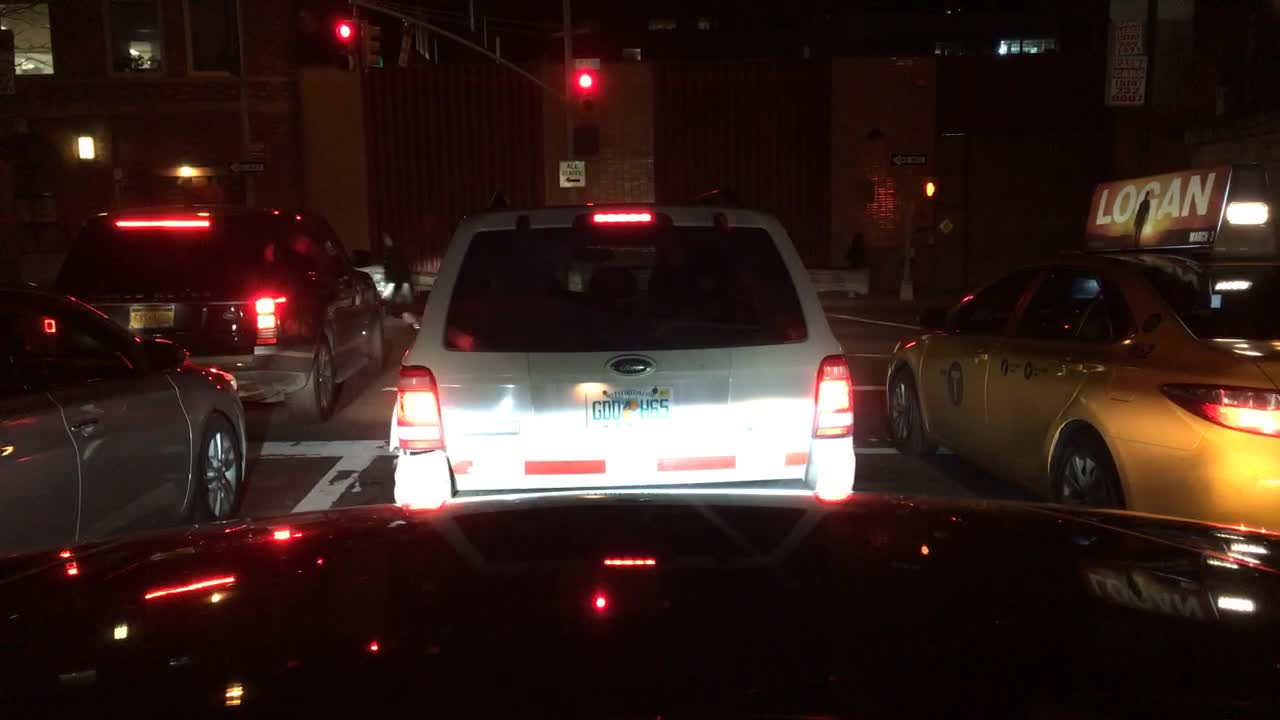car: (882, 162, 1279, 535), (388, 197, 855, 503), (51, 202, 381, 422), (0, 276, 252, 557)
person: (377, 228, 419, 317), (842, 229, 874, 272)
traffic light: (572, 67, 603, 157), (334, 14, 358, 72), (367, 21, 384, 71), (922, 177, 938, 199)
traffic sign: (1105, 52, 1148, 107), (1114, 14, 1141, 57), (397, 23, 417, 69), (558, 158, 585, 192), (226, 157, 267, 177), (885, 152, 930, 167), (242, 137, 273, 158), (572, 56, 600, 72)
